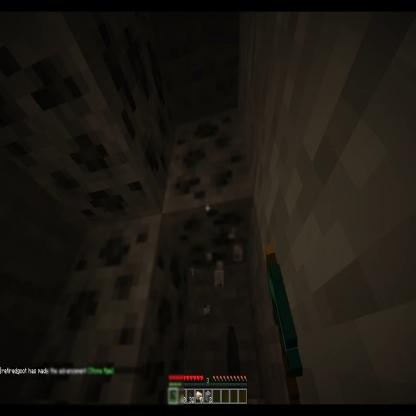coal ore: (16, 30, 166, 222), (46, 221, 184, 412), (164, 109, 254, 269)
